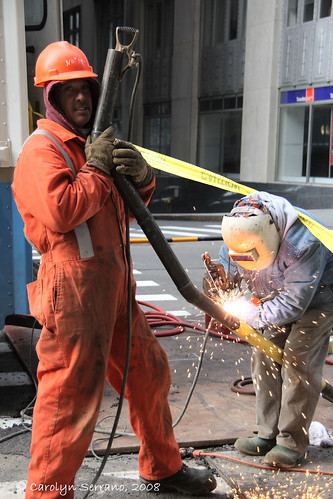person hardhat: (11, 39, 194, 499)
